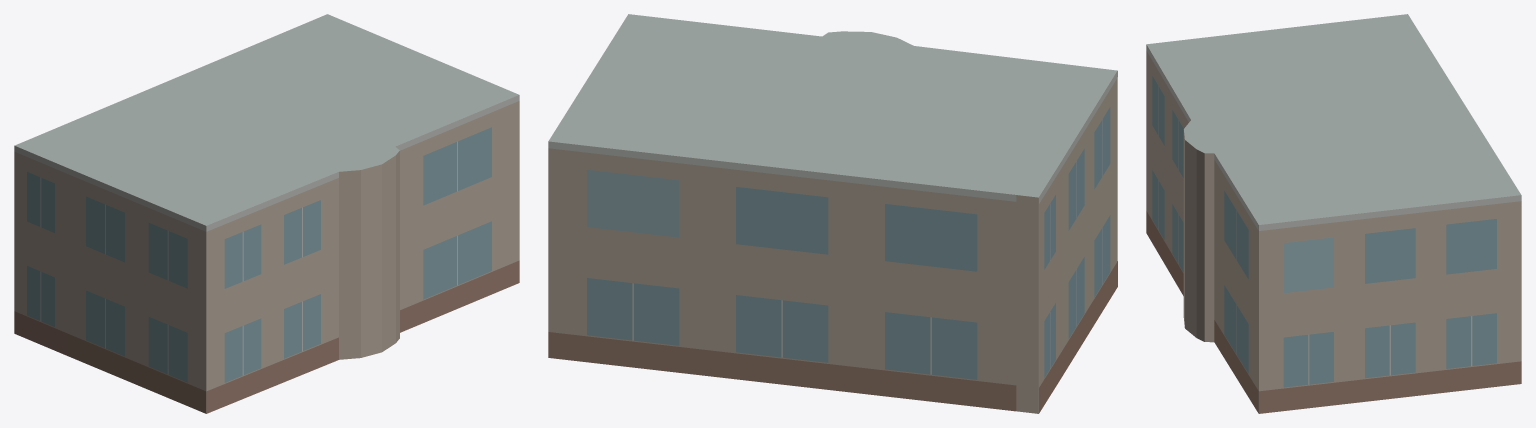
Rendered from survey-upis-32624083.glb.
3 views of the same model, side by side, from view 1: azimuth 30°, elevation 25°; view 2: azimuth 150°, elevation 25°; view 3: azimuth 270°, elevation 25° (orthographic). The views are drawn at different scales.
Parts seen in each view (by area): view 1: survey-upis-32624083.tmp; view 2: survey-upis-32624083.tmp; view 3: survey-upis-32624083.tmp.
Part boxes in pixels (box(x1,y1,x2,y2)): survey-upis-32624083.tmp: box(14, 14, 519, 413); survey-upis-32624083.tmp: box(548, 14, 1117, 413); survey-upis-32624083.tmp: box(1146, 14, 1521, 413).
Bounding box in the file's own units: 18.48 × 7.7 × 13.88.
